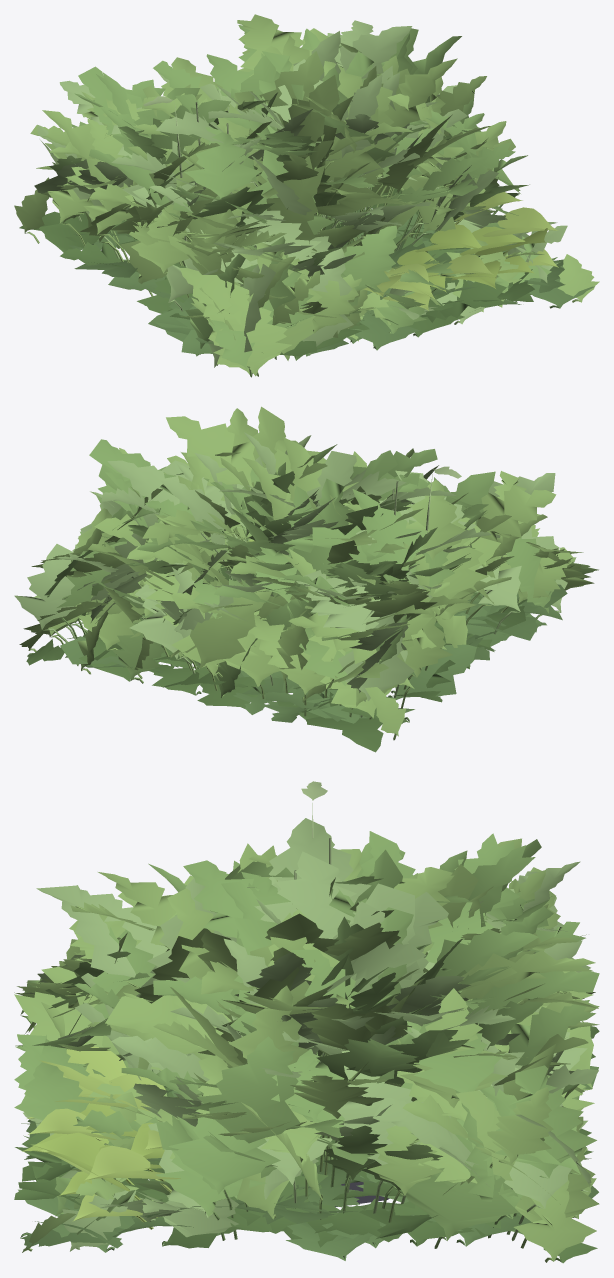
File: flora_grass_1_leafy_ground_cover_variant_2.glb
3 renders of one model, top to bottom at view 1: azimuth 30°, elevation 25°; view 2: azimuth 150°, elevation 25°; view 3: azimuth 270°, elevation 25°, orthographic. The views are drawn at different scales.
Visible parts, largest first — view 1: leaves variant 2, low leaves variant 2, heart leaves variant 2; view 2: leaves variant 2, low leaves variant 2; view 3: leaves variant 2, low leaves variant 2, heart leaves variant 2.
Part boxes in pixels (left/top/right/bottom): leaves variant 2: left=14, top=14, right=599, bottom=377; low leaves variant 2: left=19, top=188, right=594, bottom=360; heart leaves variant 2: left=363, top=192, right=558, bottom=310; leaves variant 2: left=14, top=406, right=598, bottom=740; low leaves variant 2: left=26, top=560, right=567, bottom=752; leaves variant 2: left=14, top=818, right=599, bottom=1262; low leaves variant 2: left=14, top=1026, right=599, bottom=1263; heart leaves variant 2: left=22, top=1046, right=180, bottom=1229.
Bounding box in the file's own units: 2 × 1 × 2.
